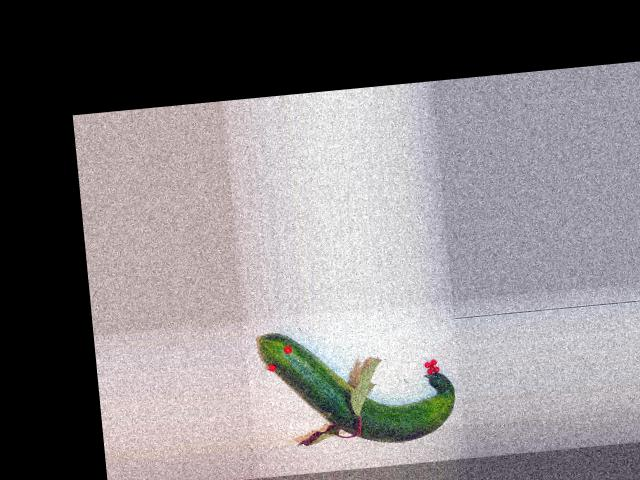cucumber: (258, 316, 459, 454)
